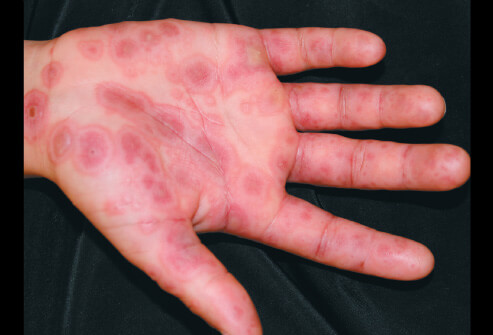Diseased: (26, 30, 357, 261)
